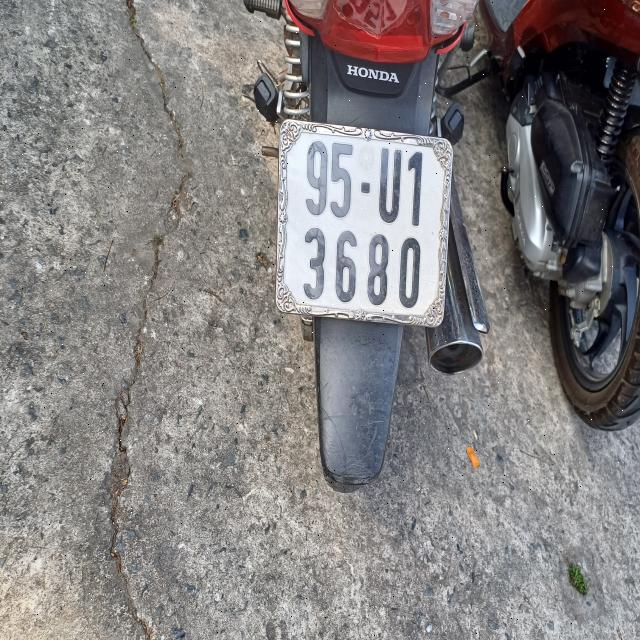0: (399, 237, 423, 307)
1: (406, 148, 425, 228)
3: (304, 223, 325, 302)
5: (330, 138, 354, 218)
6: (333, 227, 358, 302)
8: (367, 233, 390, 307)
9: (305, 137, 328, 217)
U: (378, 146, 402, 224)
